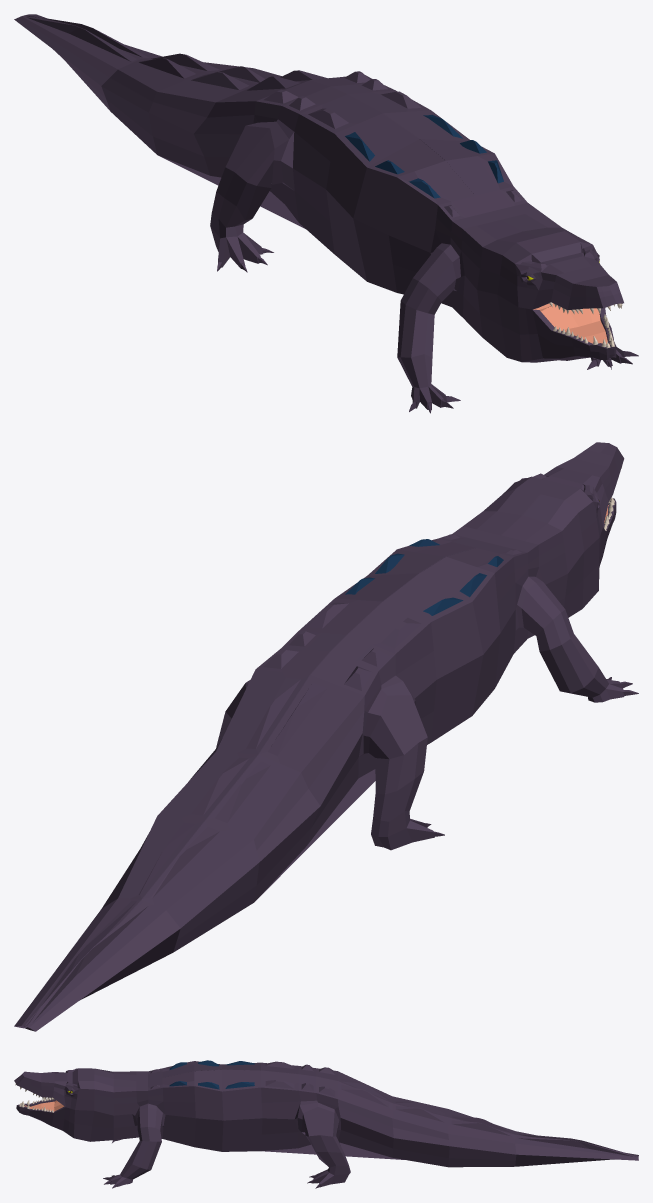
Rendered from fuckcrocodile.fbx.
The picture shows the model from 3 angles, top to bottom: view 1: azimuth 30°, elevation 25°; view 2: azimuth 150°, elevation 25°; view 3: azimuth 270°, elevation 25°; orthographic projection. The views are drawn at different scales.
Visible parts, largest first — view 1: Cube, Cube.004, Cube.001; view 2: Cube, Cube.001; view 3: Cube, Cube.001, Cube.004.
Boxes of the visible parts, bbox=[...] form: Cube: bbox=[14, 14, 638, 413]; Cube.004: bbox=[533, 303, 609, 345]; Cube.001: bbox=[345, 114, 503, 198]; Cube: bbox=[14, 442, 638, 1031]; Cube.001: bbox=[345, 539, 503, 615]; Cube: bbox=[14, 1061, 638, 1188]; Cube.001: bbox=[169, 1060, 254, 1089]; Cube.004: bbox=[24, 1100, 64, 1111].
Size of the model in its own units: 205 by 146 by 915.
